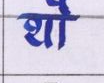ai_matra: (46, 0, 77, 14)
